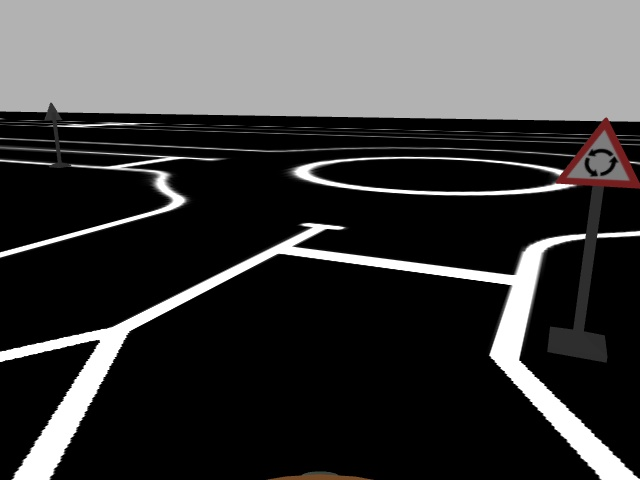roundabout: (554, 115, 640, 189)
